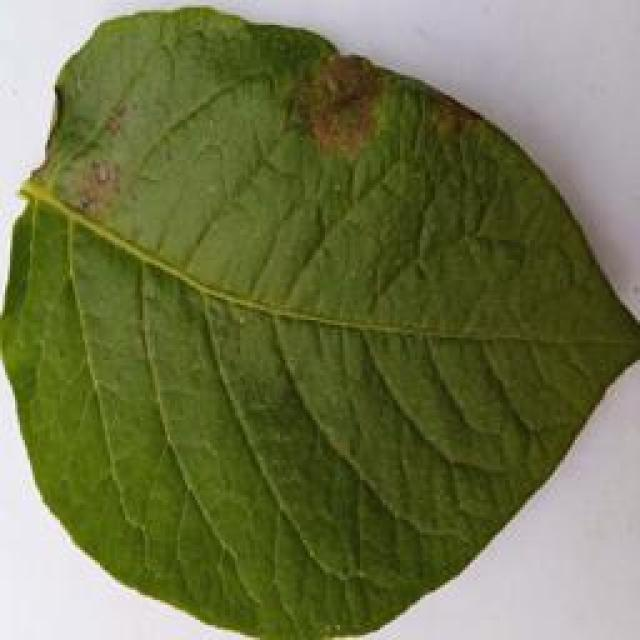Potato_Late_Blight: (2, 6, 628, 630), (380, 0, 635, 132)
